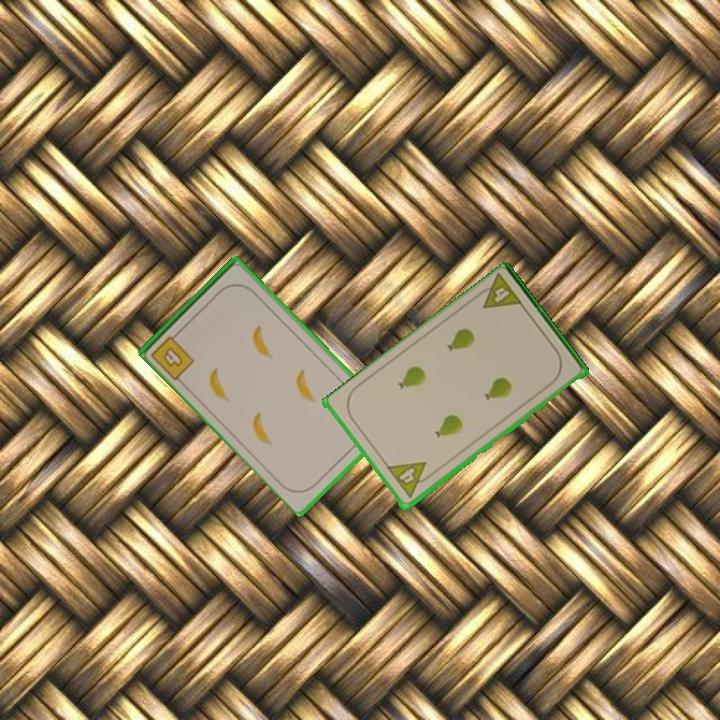4b: (147, 327, 198, 383)
4p: (384, 458, 436, 502), (471, 271, 526, 312)
